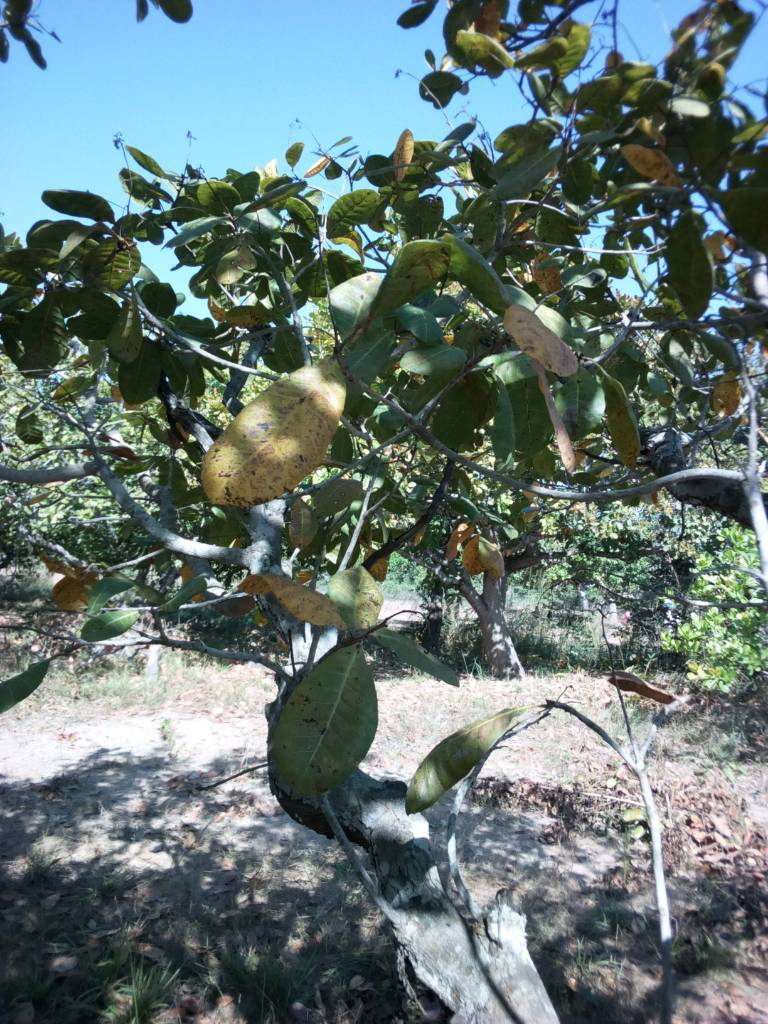Anthracnose: (199, 364, 344, 510), (265, 641, 379, 805), (260, 572, 352, 632), (510, 305, 583, 378), (619, 141, 688, 191)
